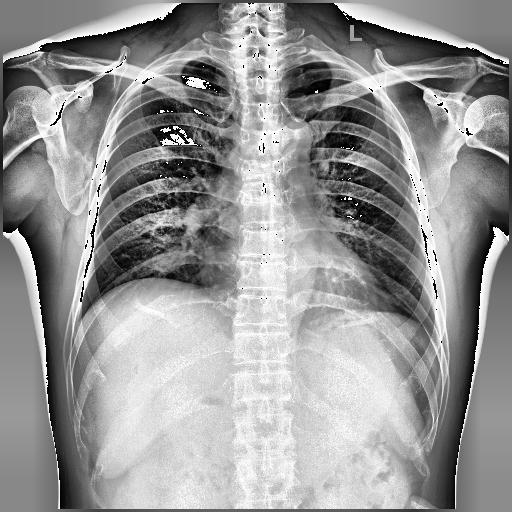0- Aortic enlargement: (270, 116, 314, 174)
3- Cardiomegaly: (202, 244, 380, 318), (196, 247, 390, 309), (197, 246, 381, 309)
